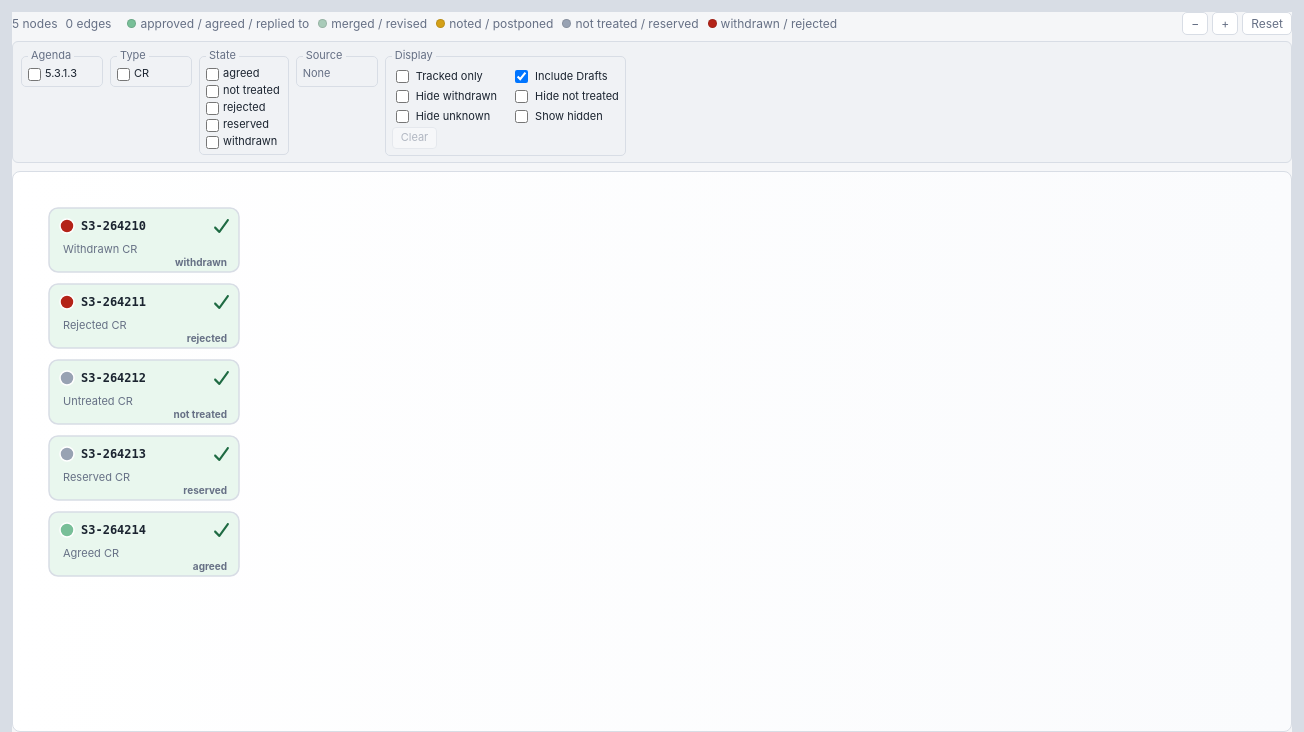
Test case: LineageView › hides withdrawn and not-treated nodes through the lineage controls
Expected: the text "5 nodes" is shown, [12,15,58,32]
Click the checkbox labelled "Hide withdrawn": (402, 97) [396,90,409,103]
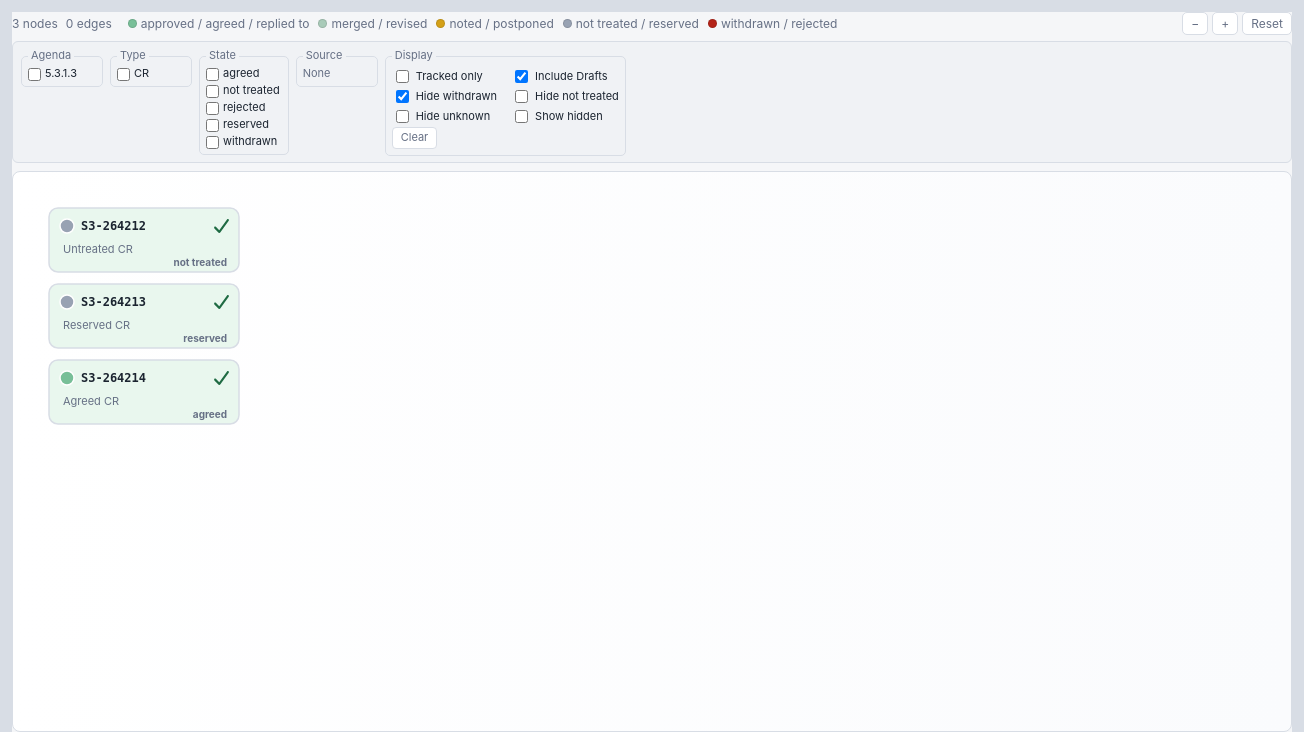
Result: the text "3 nodes" is shown at [12,15,58,32]
Result: the picture "Withdrawn CR" is gone
Result: the picture "Rejected CR" is gone
Click the checkbox labelled "Hide not treated": (522, 97) [515,90,528,103]
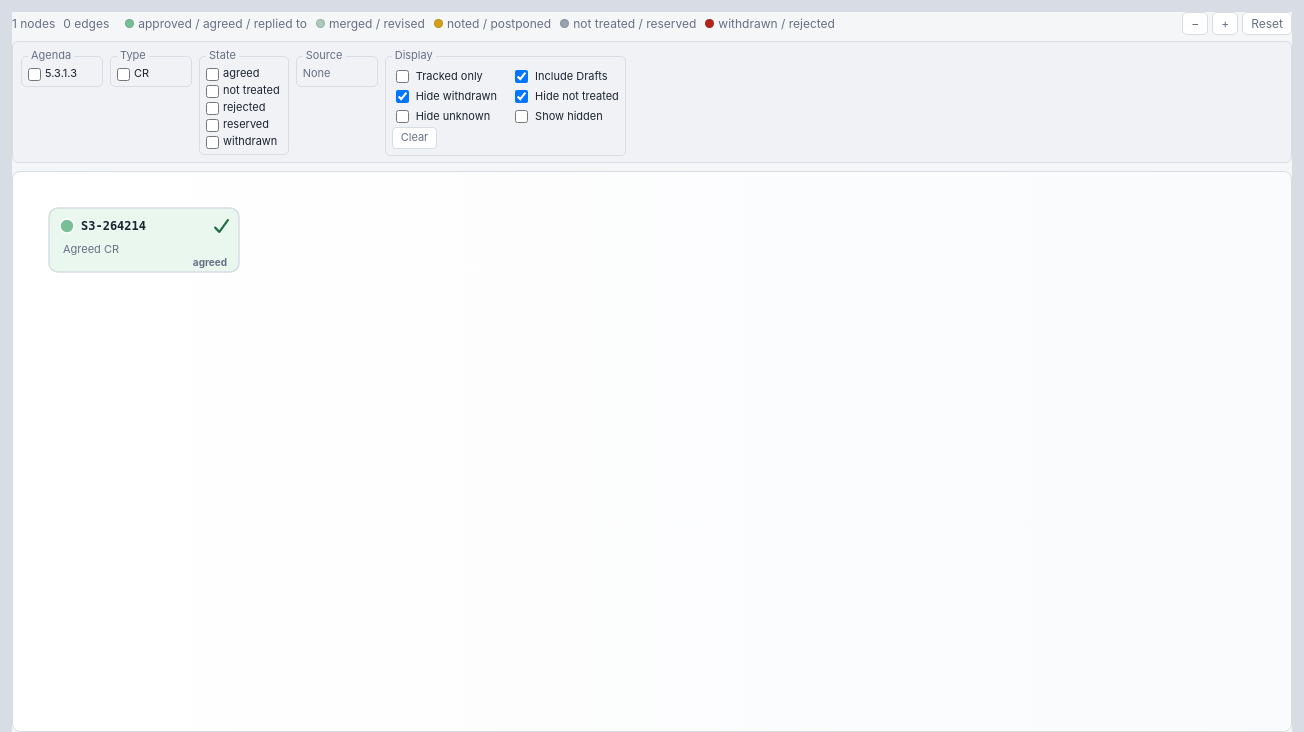
Result: the text "1 nodes" is shown at [12,15,55,32]
Result: the picture "Untreated CR" is gone
Result: the picture "Reserved CR" is gone
